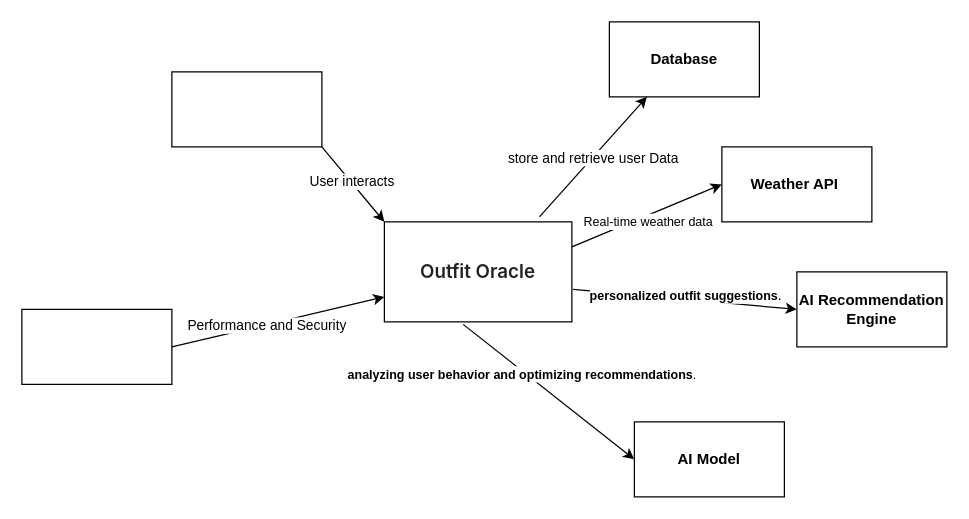
Some shapes in this 969 by 519 pixel diagram are drawn without their labels. Each missing label, with the centre of its shape:
Admin & IT Support: point (96, 346)
User: point (246, 109)
